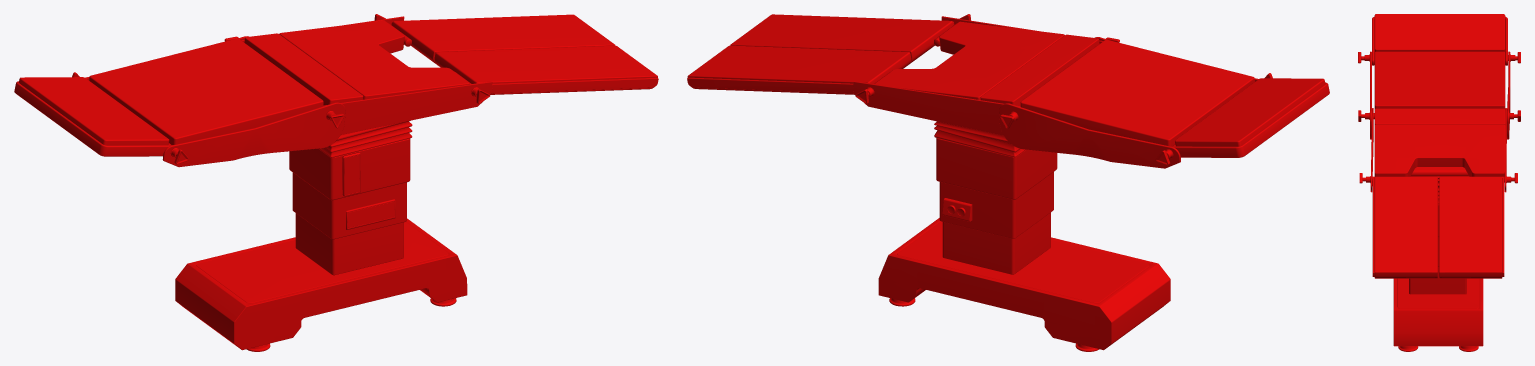
Rendered from Equipment_14.fbx.
3 renders of one model, left to right at view 1: azimuth 30°, elevation 25°; view 2: azimuth 150°, elevation 25°; view 3: azimuth 270°, elevation 25°, orthographic. The views are drawn at different scales.
Parts seen in each view (by area): view 1: L1:polySurface816; view 2: L1:polySurface816; view 3: L1:polySurface816.
Boxes of the visible parts, bbox=[...] form: L1:polySurface816: bbox=[14, 14, 658, 351]; L1:polySurface816: bbox=[687, 14, 1329, 351]; L1:polySurface816: bbox=[1358, 14, 1520, 351].
Size of the model in its own units: 293 by 133 by 97.76.
